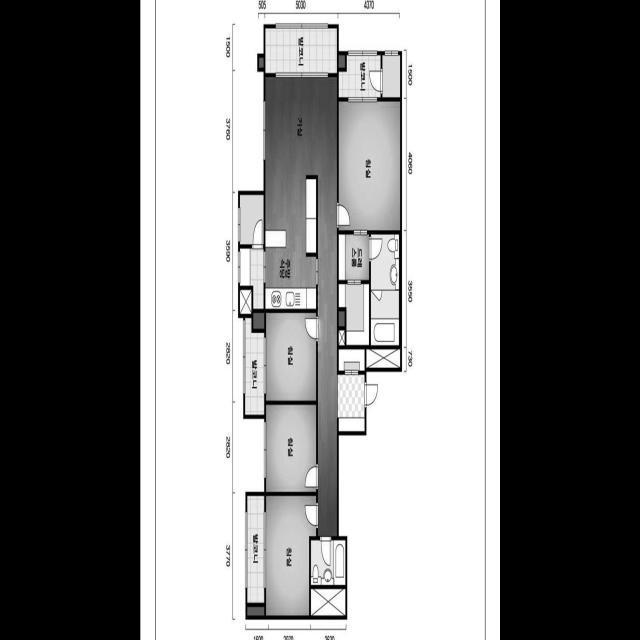background: (140, 0, 500, 640)
space_balconi: (265, 28, 337, 73), (245, 318, 264, 415), (247, 496, 264, 603), (338, 55, 380, 97), (240, 249, 263, 309)
space_bedroom: (338, 101, 400, 231), (266, 496, 316, 615), (266, 313, 316, 401), (266, 405, 316, 491)
space_dressroom: (338, 284, 369, 345), (338, 234, 369, 280)
space_front: (337, 375, 364, 432)
space_kitchen: (265, 174, 316, 309)
space_living_room: (265, 77, 337, 536)
space_other: (240, 195, 263, 244), (310, 589, 345, 616), (382, 55, 400, 97), (366, 349, 400, 368), (338, 349, 364, 371), (239, 290, 251, 314), (253, 313, 264, 329), (247, 607, 264, 615), (338, 330, 344, 345), (338, 311, 344, 326), (338, 55, 345, 67)
space_toilet: (371, 234, 399, 346), (311, 540, 345, 585)
